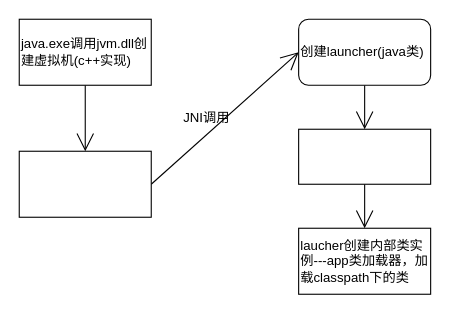
Image size: 450x314. Some labels were removed from this diagram. The shapes that lost their labels are listed below. From the top down, each one's box as (x1, y1, x2, y2) in pixels, then its label:
(298, 128, 431, 184): laucher创建内部类实例---ext类加载器，加载ext目录下的类
(18, 150, 151, 217): 创建bootstrap类加载器(c++实例)，加载核心类
